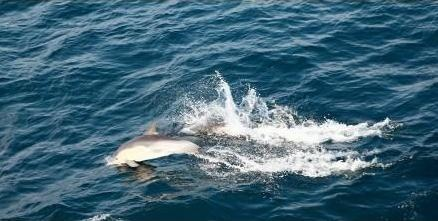fish: (108, 123, 208, 170)
